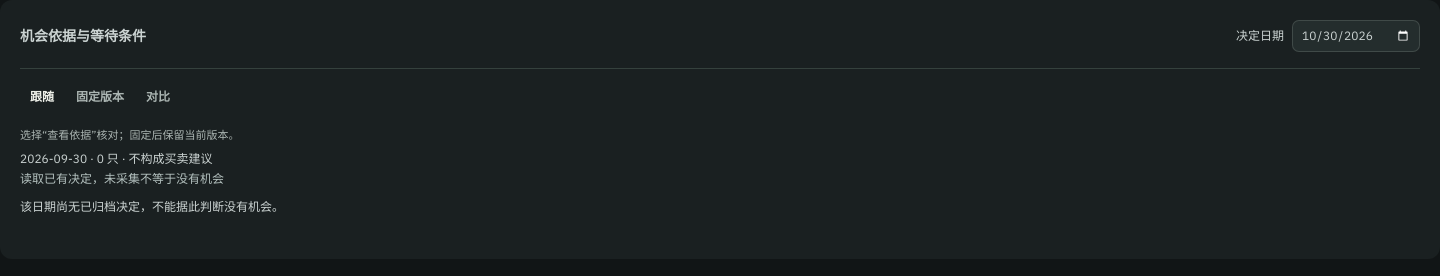
Test case: 同版机会依据 › distinguishes uncollected, collected empty and failed reads
expect the text "该日期尚无已归档决定，不能据此判断没有机会。" is shown: met, box [20,199,284,214]
Step 1. Type "2026-09-29" into the date field named "机会决定日期" → (1356, 36), box [1292,20,1420,52]
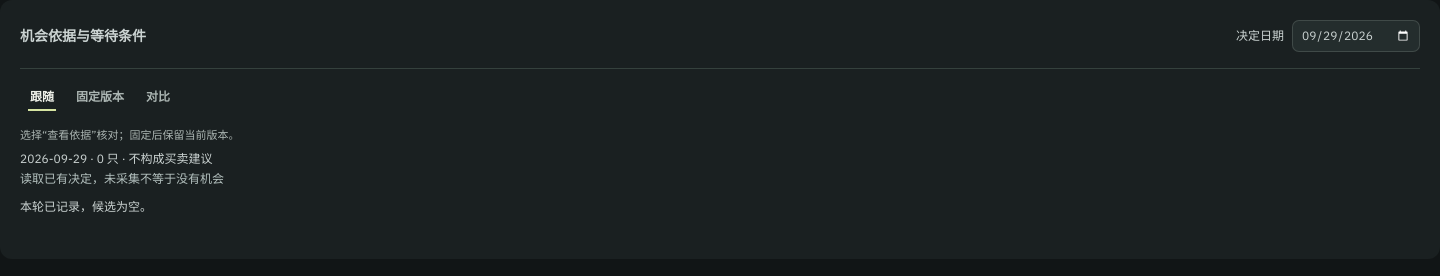
expect the text "本轮已记录，候选为空。" is shown: met, box [20,199,152,214]
Step 2. Type "2026-09-28" into the date field named "机会决定日期" → (1356, 36), box [1292,20,1420,52]
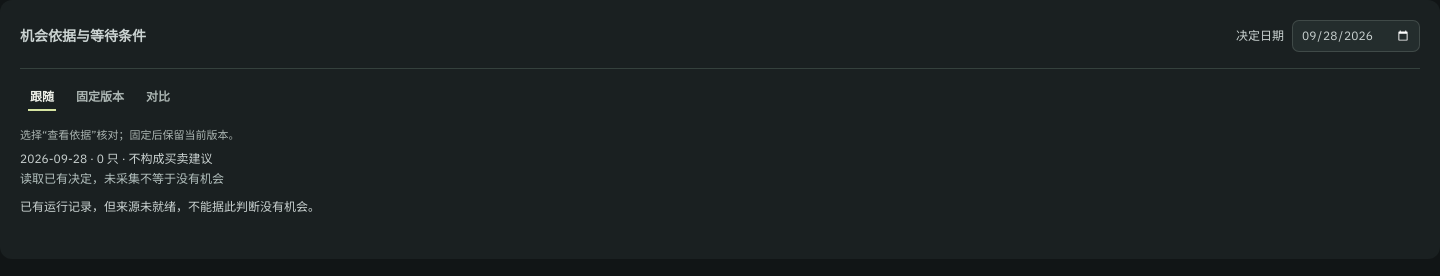
expect the text "已有运行记录，但来源未就绪，不能据此判断没有机会。" is shown: met, box [20,199,320,214]
Step 3. Type "2026-09-27" into the date field named "机会决定日期" → (1356, 36), box [1292,20,1420,52]
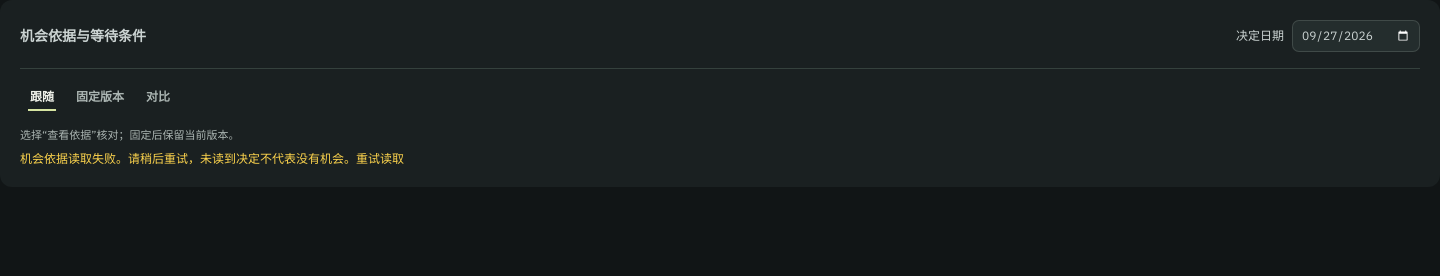
expect the text "本轮已记录，候选为空" is not shown: met
expect the message "机会依据读取失败。请稍后重试，未读到决定不代表没有机会。 重试读取" is shown: met, box [20,151,404,167]
